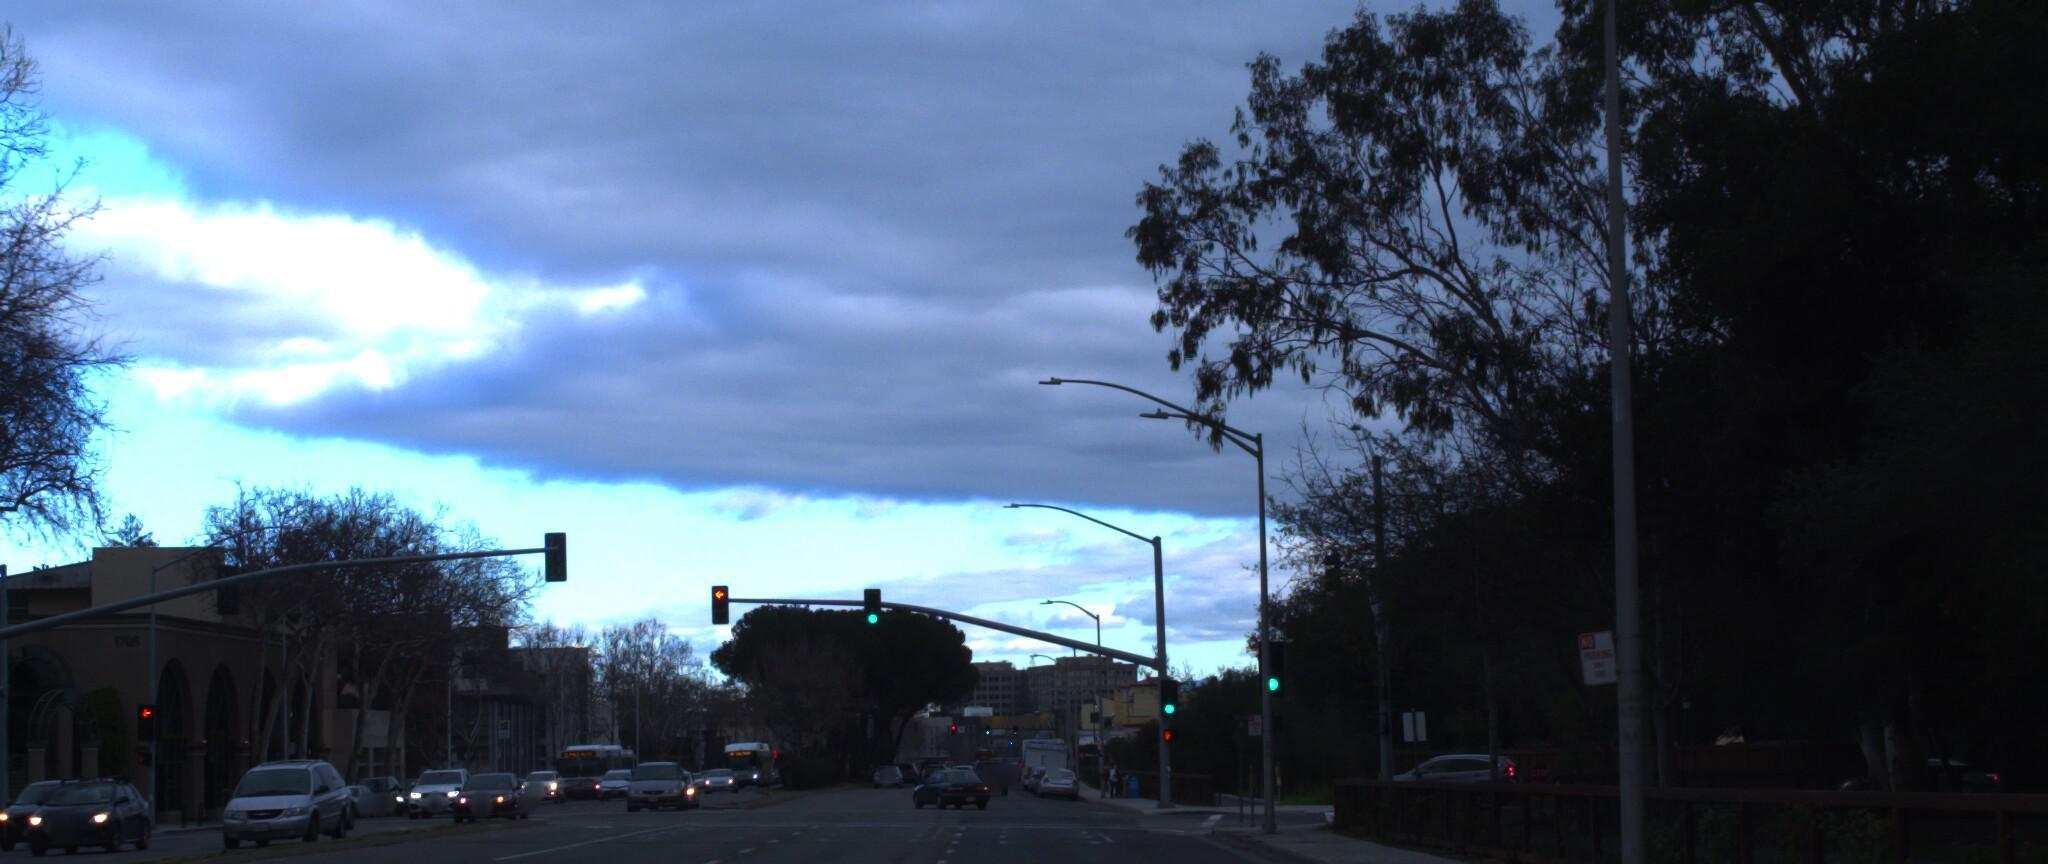car: (208, 737, 354, 837), (10, 765, 153, 852)
